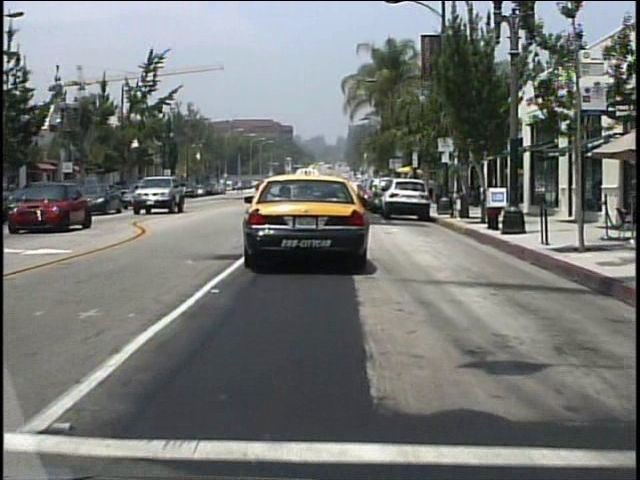person: (426, 176, 433, 199)
